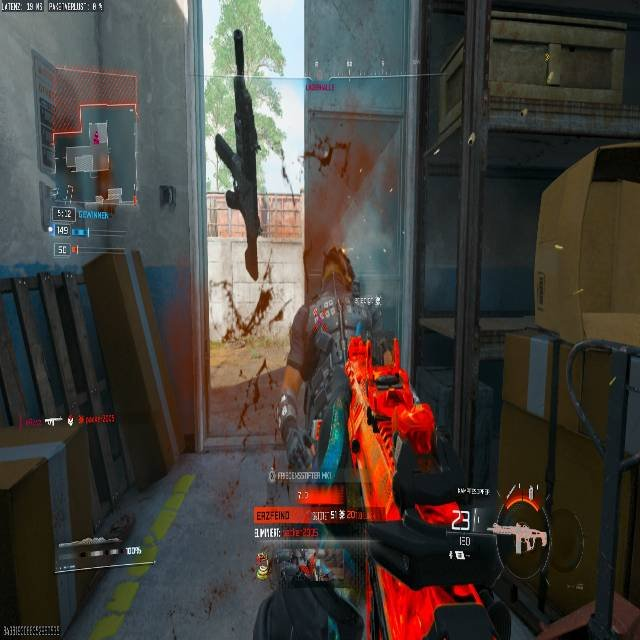head: (491, 495, 550, 576)
player: (243, 335, 547, 640), (298, 489, 310, 504)
